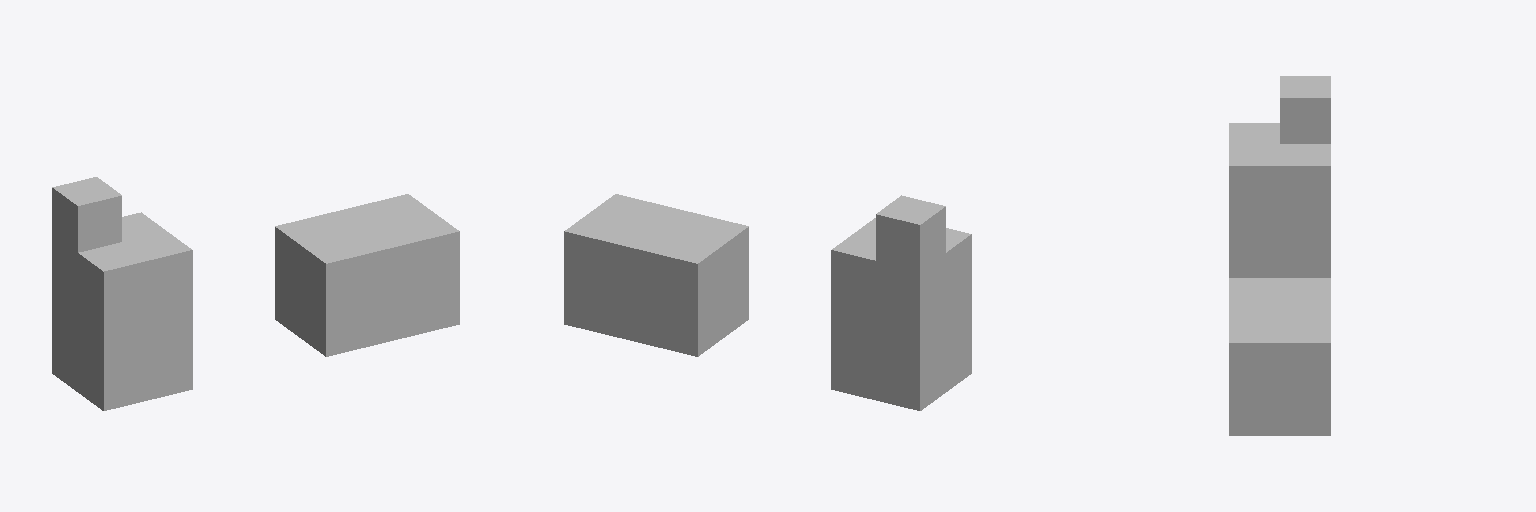
The model's file is soap.obj.
The picture shows the model from 3 angles: view 1: azimuth 30°, elevation 25°; view 2: azimuth 150°, elevation 25°; view 3: azimuth 270°, elevation 25°; orthographic projection.
Visible parts, largest first — view 1: object 1; view 2: object 1; view 3: object 1.
Boxes of the visible parts, x1=… form: object 1: x1=52, y1=177, x2=459, y2=410; object 1: x1=564, y1=194, x2=971, y2=410; object 1: x1=1229, y1=76, x2=1330, y2=435.
Size of the model in its own units: 0.8 by 0.4 by 0.2.